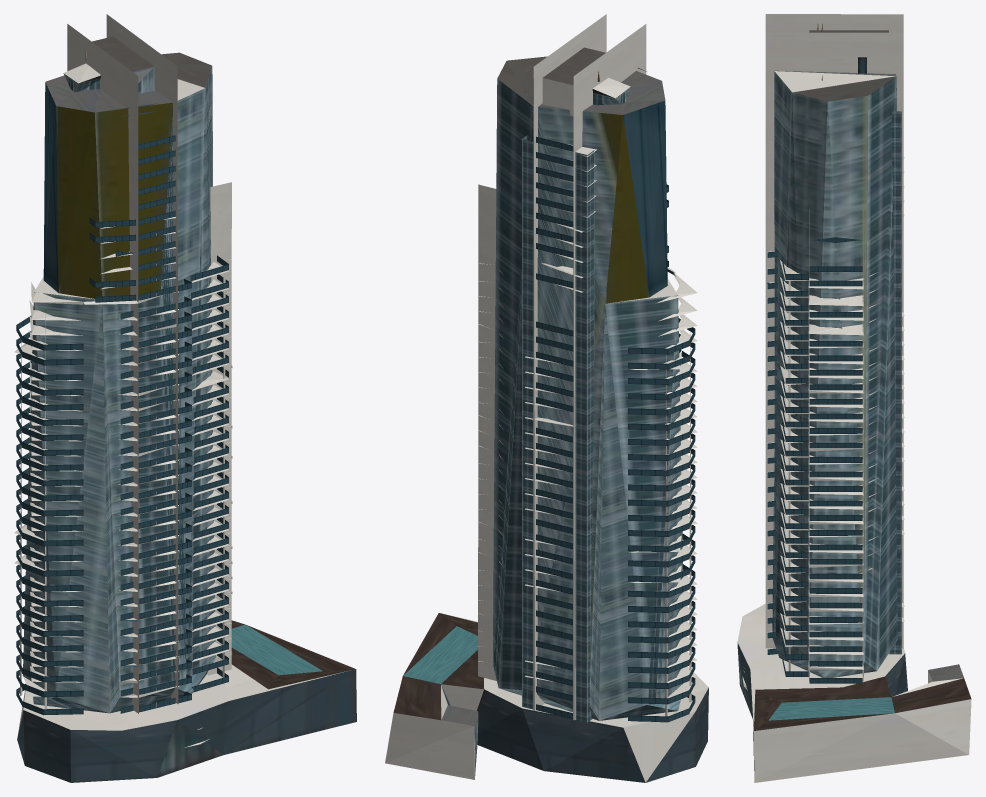
The model's file is gold_crown_tower_lod1.glb.
The picture shows the model from 3 angles, left to right: view 1: azimuth 30°, elevation 25°; view 2: azimuth 150°, elevation 25°; view 3: azimuth 270°, elevation 25°; orthographic projection. The views are drawn at different scales.
Parts seen in each view (by area): view 1: gold_crown_tower; view 2: gold_crown_tower; view 3: gold_crown_tower.
Part boxes in pixels (left/top/right/bottom): gold_crown_tower: left=14, top=14, right=356, bottom=782; gold_crown_tower: left=385, top=14, right=708, bottom=782; gold_crown_tower: left=737, top=14, right=971, bottom=782.
Bounding box in the file's own units: 61.36 × 138 × 43.78.
1 material, 1 textured.
